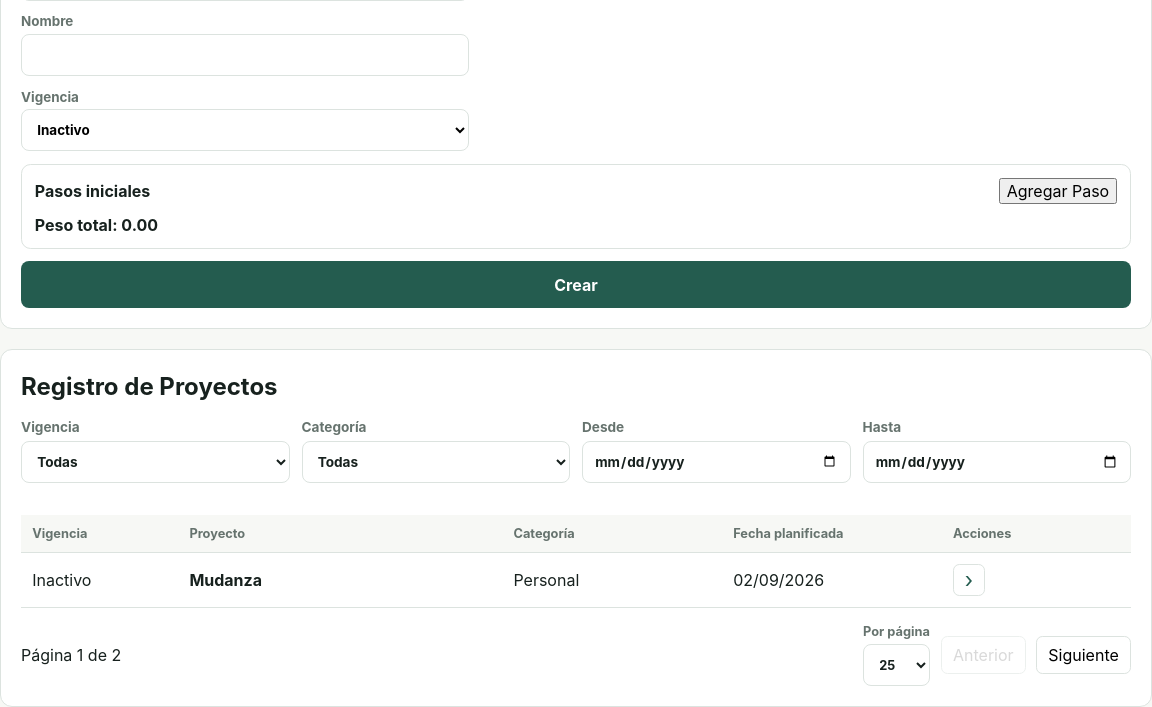
PlanningProjectsPage › disables active structural controls
(page scrolled)
Click the button named "Ver estructura de Mudanza": (969, 580) [953,564,985,596]
(page scrolled)
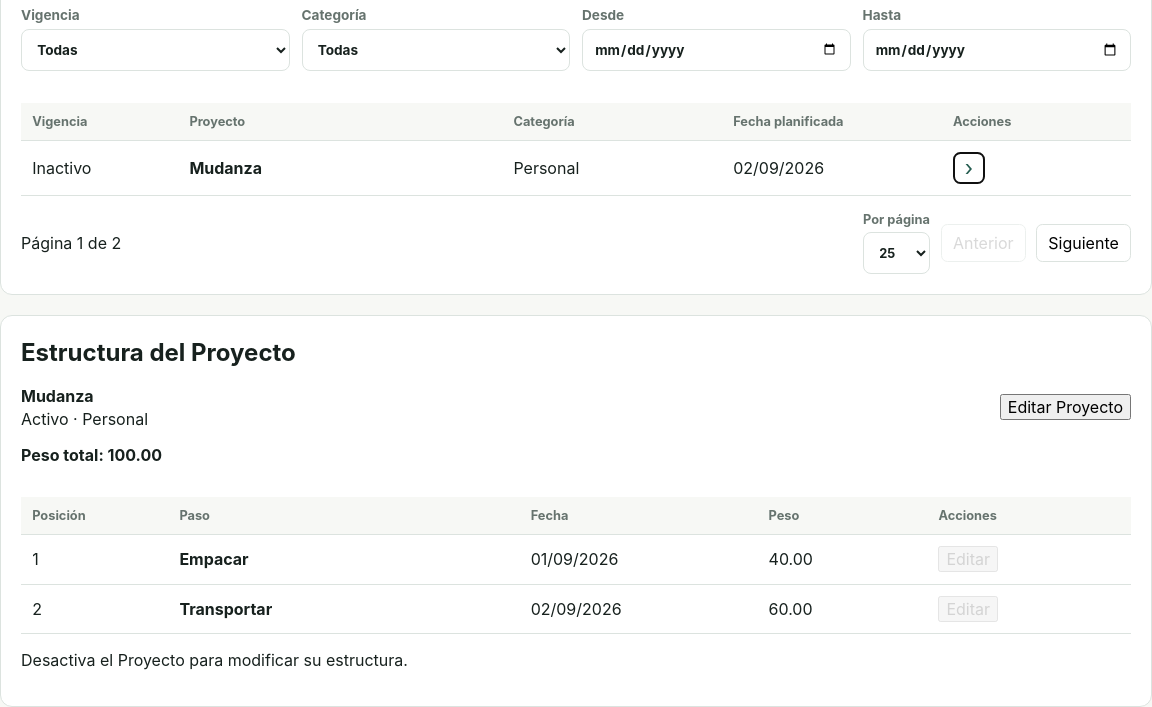
Expected: the heading "Agregar Paso" is not shown
Expected: the button with aria-label "Editar Paso Empacar" is disabled, [938,546,998,572]
